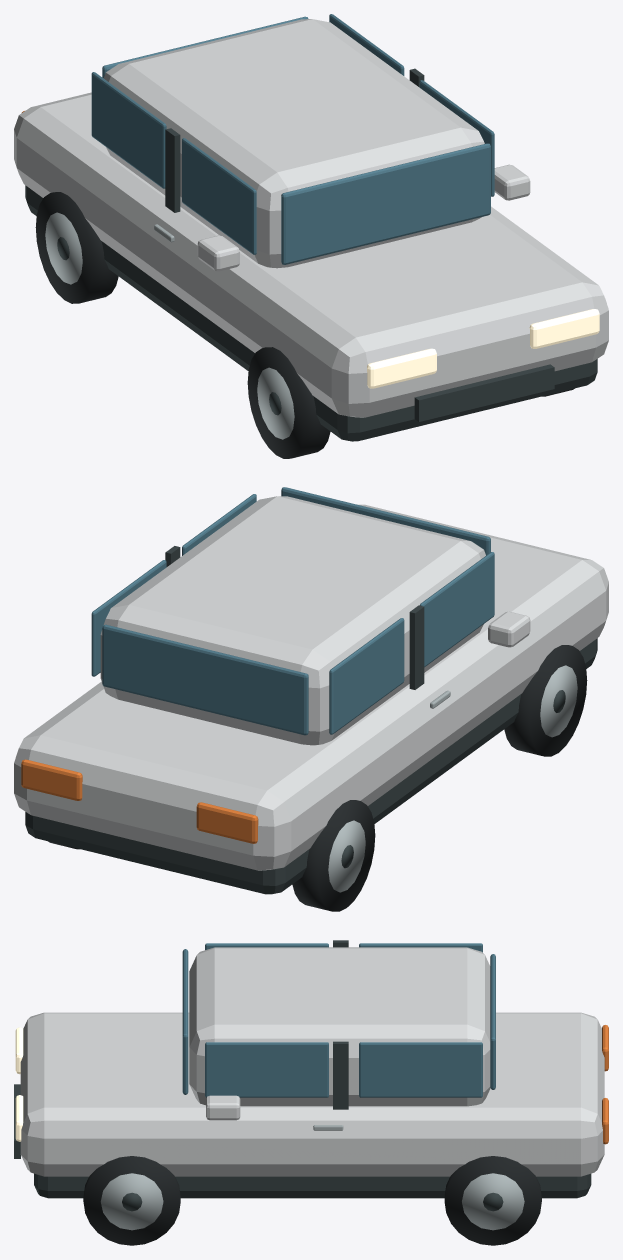
File: site-city-car.glb
3 views of the same model, one above another, from view 1: azimuth 30°, elevation 25°; view 2: azimuth 150°, elevation 25°; view 3: azimuth 270°, elevation 25° (orthographic). The views are drawn at different scales.
Parts seen in each view (by area): view 1: site-city-car_City_vehicle_enamel, site-city-car_Blue_reflective_glazing, site-city-car_Anthracite_anodized_metal, site-city-car_Rubber_gaskets_and_feet, site-city-car_Galvanized_brushed_steel, site-city-car_City_glow_street_luminaires; view 2: site-city-car_City_vehicle_enamel, site-city-car_Blue_reflective_glazing, site-city-car_Anthracite_anodized_metal, site-city-car_Rubber_gaskets_and_feet, site-city-car_Galvanized_brushed_steel, site-city-car_Safety_orange; view 3: site-city-car_City_vehicle_enamel, site-city-car_Blue_reflective_glazing, site-city-car_Anthracite_anodized_metal, site-city-car_Rubber_gaskets_and_feet, site-city-car_Galvanized_brushed_steel, site-city-car_City_glow_street_luminaires, site-city-car_Safety_orange.
Boxes of the visible parts, bbox=[...] form: site-city-car_City_vehicle_enamel: bbox=[14, 19, 608, 417]; site-city-car_Blue_reflective_glazing: bbox=[91, 14, 494, 264]; site-city-car_Anthracite_anodized_metal: bbox=[25, 68, 597, 441]; site-city-car_Rubber_gaskets_and_feet: bbox=[35, 192, 574, 458]; site-city-car_Galvanized_brushed_steel: bbox=[45, 212, 294, 439]; site-city-car_City_glow_street_luminaires: bbox=[367, 309, 599, 388]; site-city-car_City_vehicle_enamel: bbox=[14, 496, 608, 870]; site-city-car_Blue_reflective_glazing: bbox=[91, 487, 494, 735]; site-city-car_Anthracite_anodized_metal: bbox=[25, 546, 597, 894]; site-city-car_Rubber_gaskets_and_feet: bbox=[48, 645, 587, 911]; site-city-car_Galvanized_brushed_steel: bbox=[328, 665, 577, 892]; site-city-car_Safety_orange: bbox=[21, 759, 258, 843]; site-city-car_City_vehicle_enamel: bbox=[20, 947, 604, 1176]; site-city-car_Blue_reflective_glazing: bbox=[182, 943, 495, 1097]; site-city-car_Anthracite_anodized_metal: bbox=[14, 940, 591, 1211]; site-city-car_Rubber_gaskets_and_feet: bbox=[83, 1156, 541, 1245]; site-city-car_Galvanized_brushed_steel: bbox=[100, 1125, 524, 1230]; site-city-car_City_glow_street_luminaires: bbox=[15, 1027, 23, 1141]; site-city-car_Safety_orange: bbox=[602, 1025, 608, 1144].
Size of the model in its own units: 1.98 by 1.41 by 3.79.
